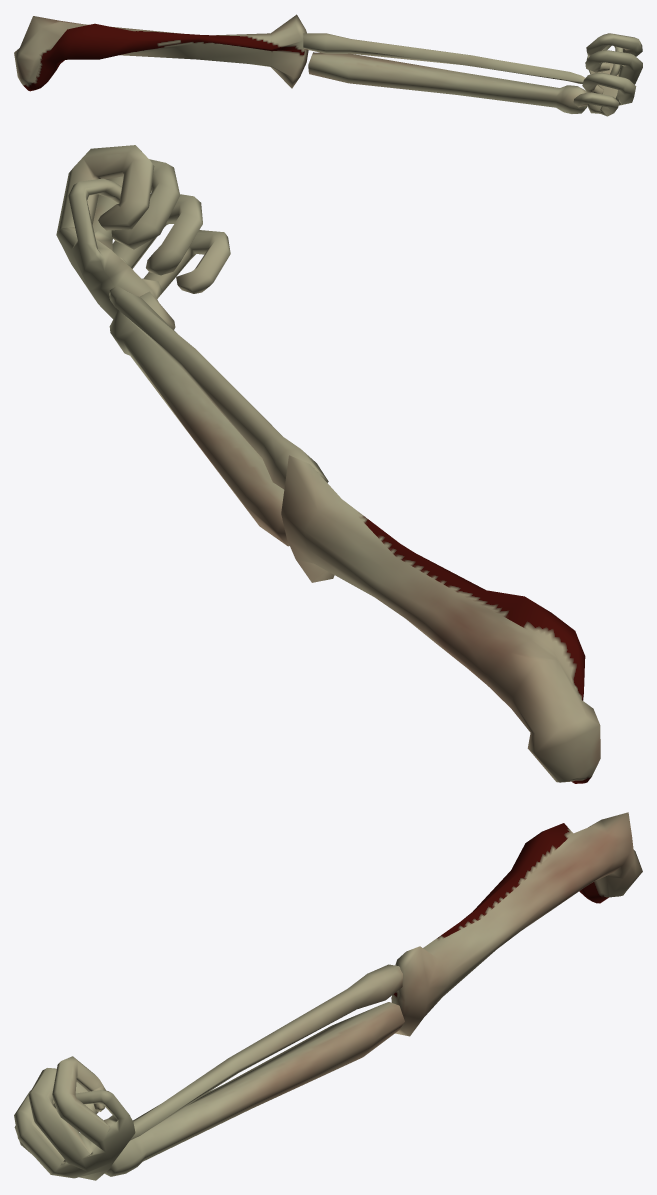
File: L_Arm_231204.fbx
3 renders of one model, top to bottom at view 1: azimuth 30°, elevation 25°; view 2: azimuth 150°, elevation 25°; view 3: azimuth 270°, elevation 25°, orthographic. The views are drawn at different scales.
Visible parts, largest first — view 1: L_Arm; view 2: L_Arm; view 3: L_Arm.
Part boxes in pixels (left/top/right/bottom): L_Arm: left=14, top=14, right=642, bottom=116; L_Arm: left=56, top=145, right=600, bottom=783; L_Arm: left=14, top=812, right=642, bottom=1180.
Size of the model in its own units: 1.68 by 0.3242 by 1.38.
